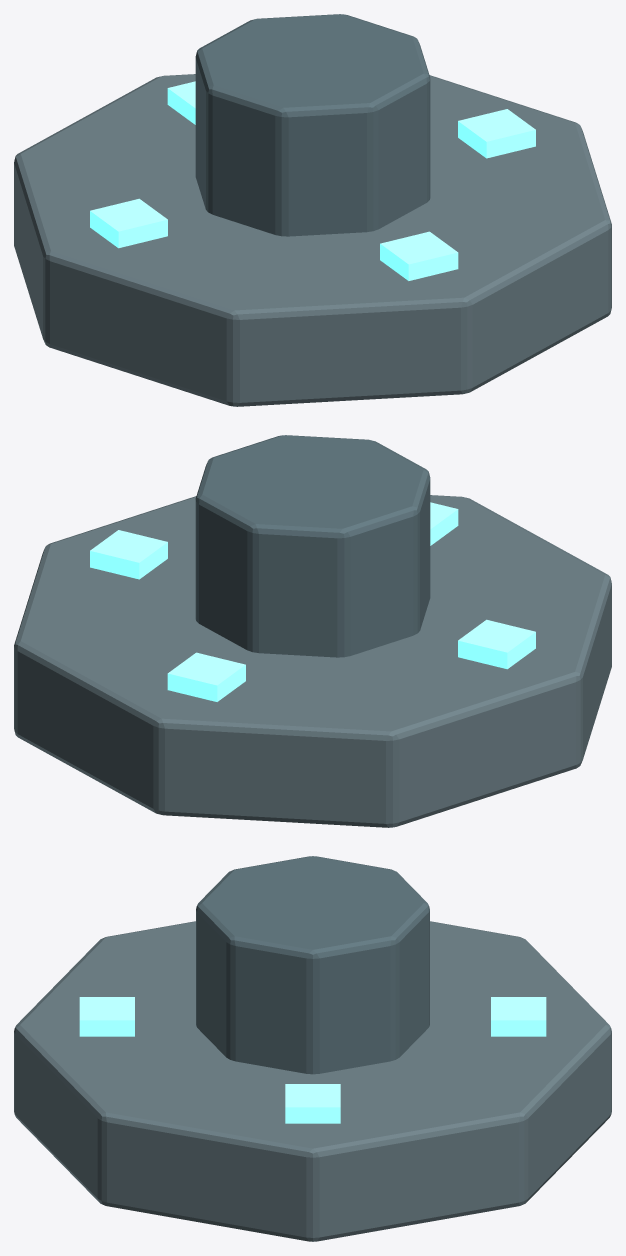
The model's file is capture_socket.glb.
3 renders of one model, top to bottom at view 1: azimuth 30°, elevation 25°; view 2: azimuth 150°, elevation 25°; view 3: azimuth 270°, elevation 25°, orthographic. The views are drawn at different scales.
Visible parts, largest first — view 1: Capture socket foot.006, Socket locking collar.006, Team socket light.027, Team socket light.025, Team socket light.024, Team socket light.026; view 2: Capture socket foot.006, Socket locking collar.006, Team socket light.026, Team socket light.025, Team socket light.024, Team socket light.027; view 3: Capture socket foot.006, Socket locking collar.006, Team socket light.024, Team socket light.026, Team socket light.027.
Boxes of the visible parts, x1,y1,x2,y2 form: Capture socket foot.006: (14, 74, 611, 406); Socket locking collar.006: (195, 14, 430, 236); Team socket light.027: (380, 231, 458, 280); Team socket light.025: (90, 198, 167, 248); Team socket light.024: (458, 109, 535, 158); Team socket light.026: (167, 81, 195, 124); Capture socket foot.006: (14, 495, 611, 827); Socket locking collar.006: (195, 435, 430, 657); Team socket light.026: (167, 652, 245, 701); Team socket light.025: (458, 619, 535, 669); Team socket light.024: (90, 530, 167, 579); Team socket light.027: (430, 502, 458, 545); Capture socket foot.006: (14, 921, 611, 1241); Socket locking collar.006: (196, 856, 429, 1074); Team socket light.024: (285, 1084, 340, 1123); Team socket light.026: (491, 997, 546, 1036); Team socket light.027: (79, 997, 134, 1036).
Size of the model in its own units: 0.756 by 0.3 by 0.756.
